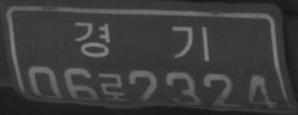0: (26, 64, 64, 100)
2: (203, 71, 244, 109), (131, 68, 164, 105)
3: (164, 69, 203, 107)
4: (245, 73, 279, 109)
6: (63, 65, 100, 102)
경기_D: (73, 20, 211, 62)
로: (99, 71, 131, 102)
